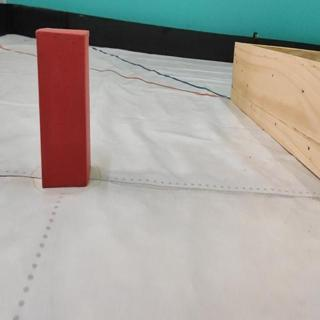redbox: (35, 27, 91, 190)
